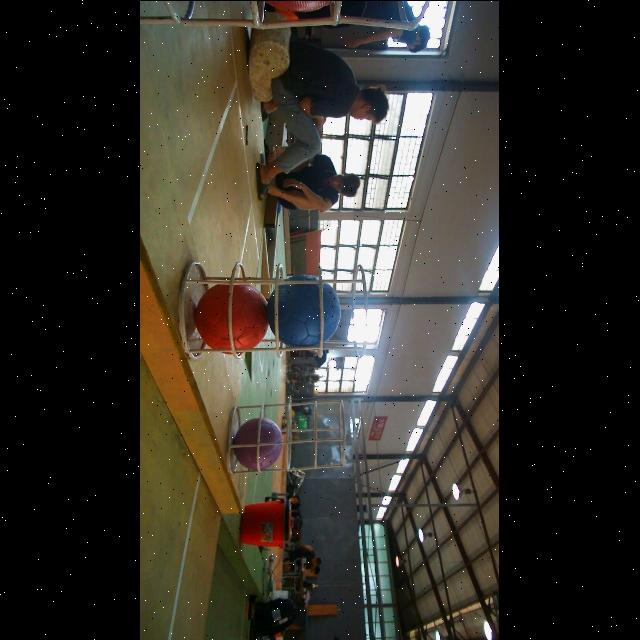B: (268, 274, 342, 346)
R: (192, 280, 270, 354)
